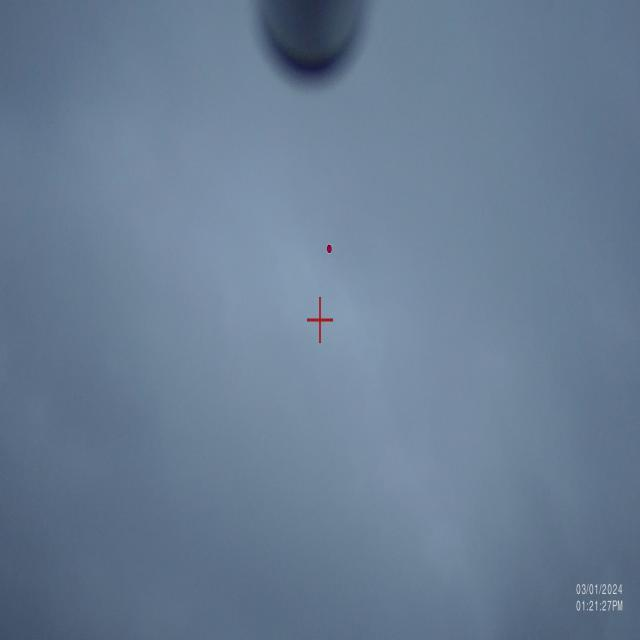entire: (321, 238, 334, 259)
